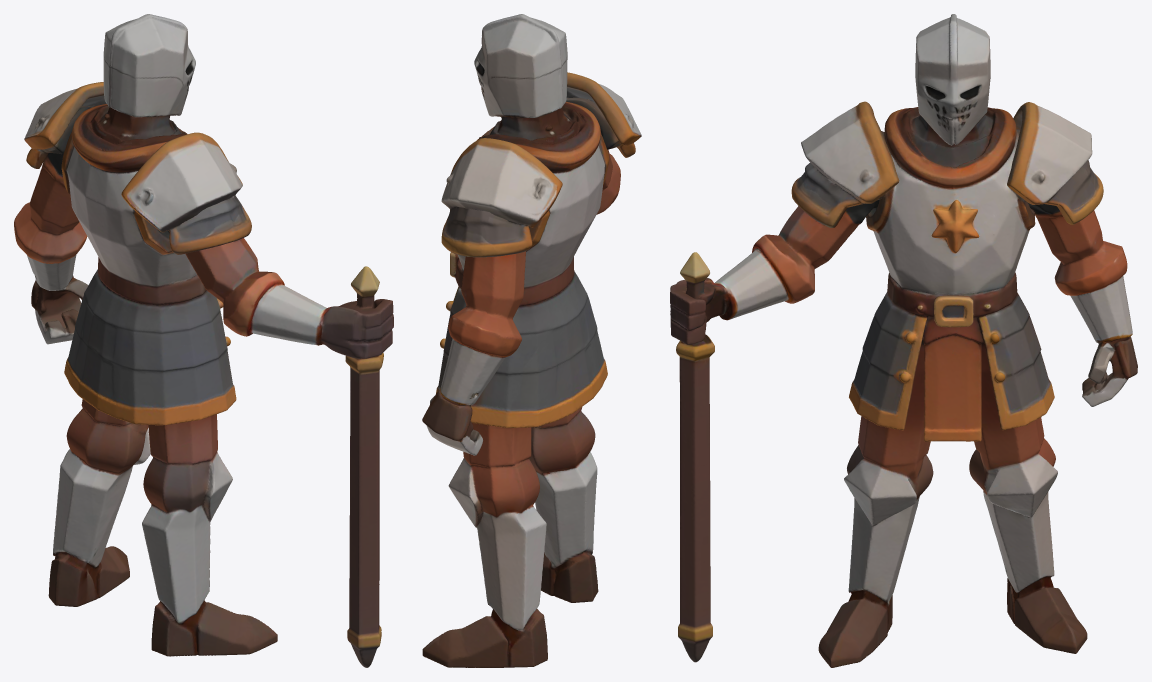
Rendered from knight.glb.
3 views of the same model, side by side, from view 1: azimuth 30°, elevation 25°; view 2: azimuth 150°, elevation 25°; view 3: azimuth 270°, elevation 25° (orthographic). The views are drawn at different scales.
Visible parts, largest first — view 1: tripo_node_5259e377-9c6a-4edd-b764-67868c97b731; view 2: tripo_node_5259e377-9c6a-4edd-b764-67868c97b731; view 3: tripo_node_5259e377-9c6a-4edd-b764-67868c97b731.
Part boxes in pixels (x1,y1,x2,y2): tripo_node_5259e377-9c6a-4edd-b764-67868c97b731: (14, 14, 393, 667); tripo_node_5259e377-9c6a-4edd-b764-67868c97b731: (422, 14, 641, 667); tripo_node_5259e377-9c6a-4edd-b764-67868c97b731: (670, 14, 1137, 667).
Size of the model in its own units: 0.3308 by 1 by 0.6906.
1 material, 1 textured.
